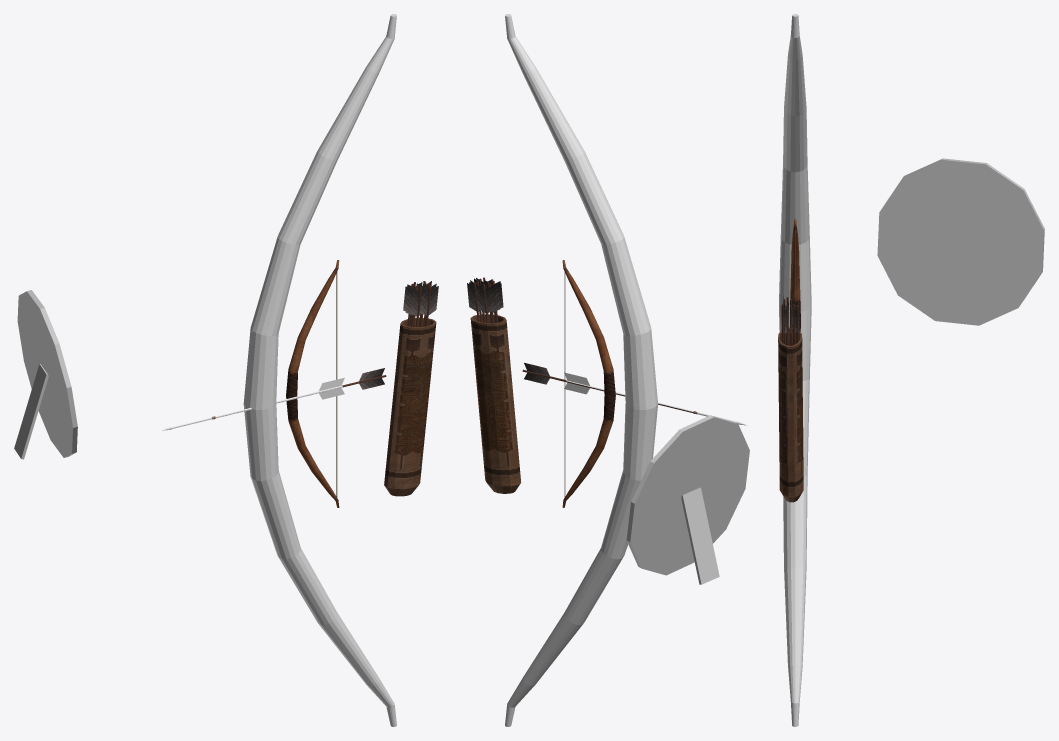
Rendered from archerySet.fbx.
3 views of the same model, side by side, from view 1: azimuth 30°, elevation 25°; view 2: azimuth 150°, elevation 25°; view 3: azimuth 270°, elevation 25° (orthographic).
Parts seen in each view (by area): view 1: Circle.001, aim, quiver, bow; view 2: Circle.001, aim, quiver, bow, arrow; view 3: aim, Circle.001, quiver, bow.
Boxes of the visible parts, x1,y1,x2,y2 form: Circle.001: (243, 14, 396, 726); aim: (14, 290, 77, 459); quiver: (384, 317, 436, 496); bow: (286, 260, 339, 507); Circle.001: (505, 14, 657, 726); aim: (626, 415, 749, 584); quiver: (470, 314, 521, 493); bow: (562, 260, 615, 507); arrow: (522, 362, 697, 414); aim: (877, 158, 1044, 325); Circle.001: (779, 14, 811, 726); quiver: (778, 327, 803, 502); bow: (789, 219, 800, 331).
Size of the model in its own units: 163 by 333 by 113.
